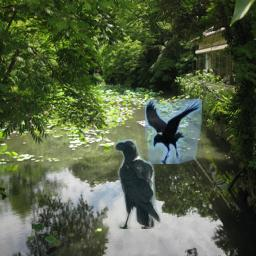Crow: (114, 139, 161, 229), (145, 99, 202, 164)
